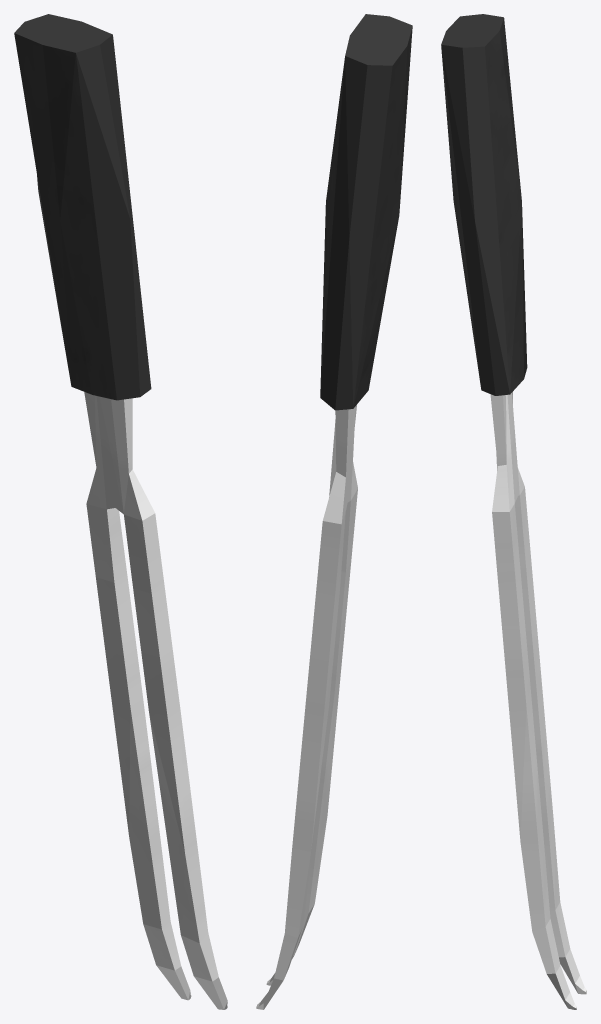
The model's file is H_CarvingFork.fbx.
3 renders of one model, left to right at view 1: azimuth 30°, elevation 25°; view 2: azimuth 150°, elevation 25°; view 3: azimuth 330°, elevation 25°, orthographic. The views are drawn at different scales.
Parts seen in each view (by area): view 1: CarvingForkSp; view 2: CarvingForkSp; view 3: CarvingForkSp.
Part boxes in pixels (<box>): CarvingForkSp: <box>14,14,227,1009</box>; CarvingForkSp: <box>256,14,412,1009</box>; CarvingForkSp: <box>441,14,586,1009</box>.
Size of the model in its own units: 12.58 by 71.08 by 8.23.
